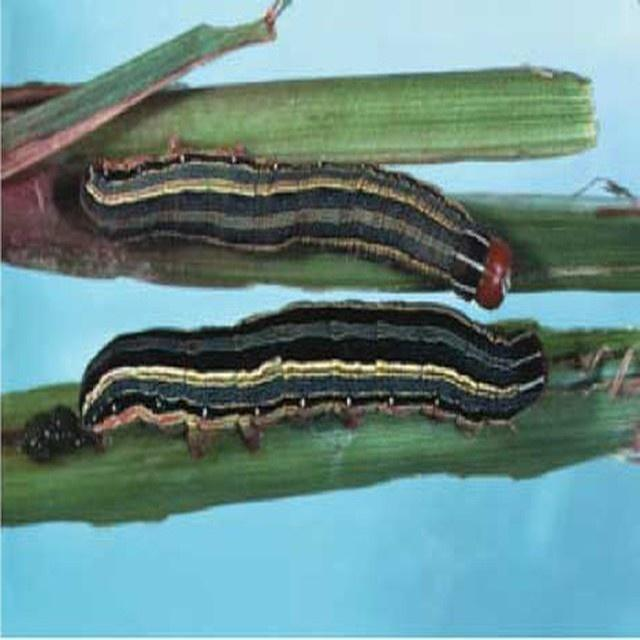gusano_cogollero: (74, 299, 549, 451)
